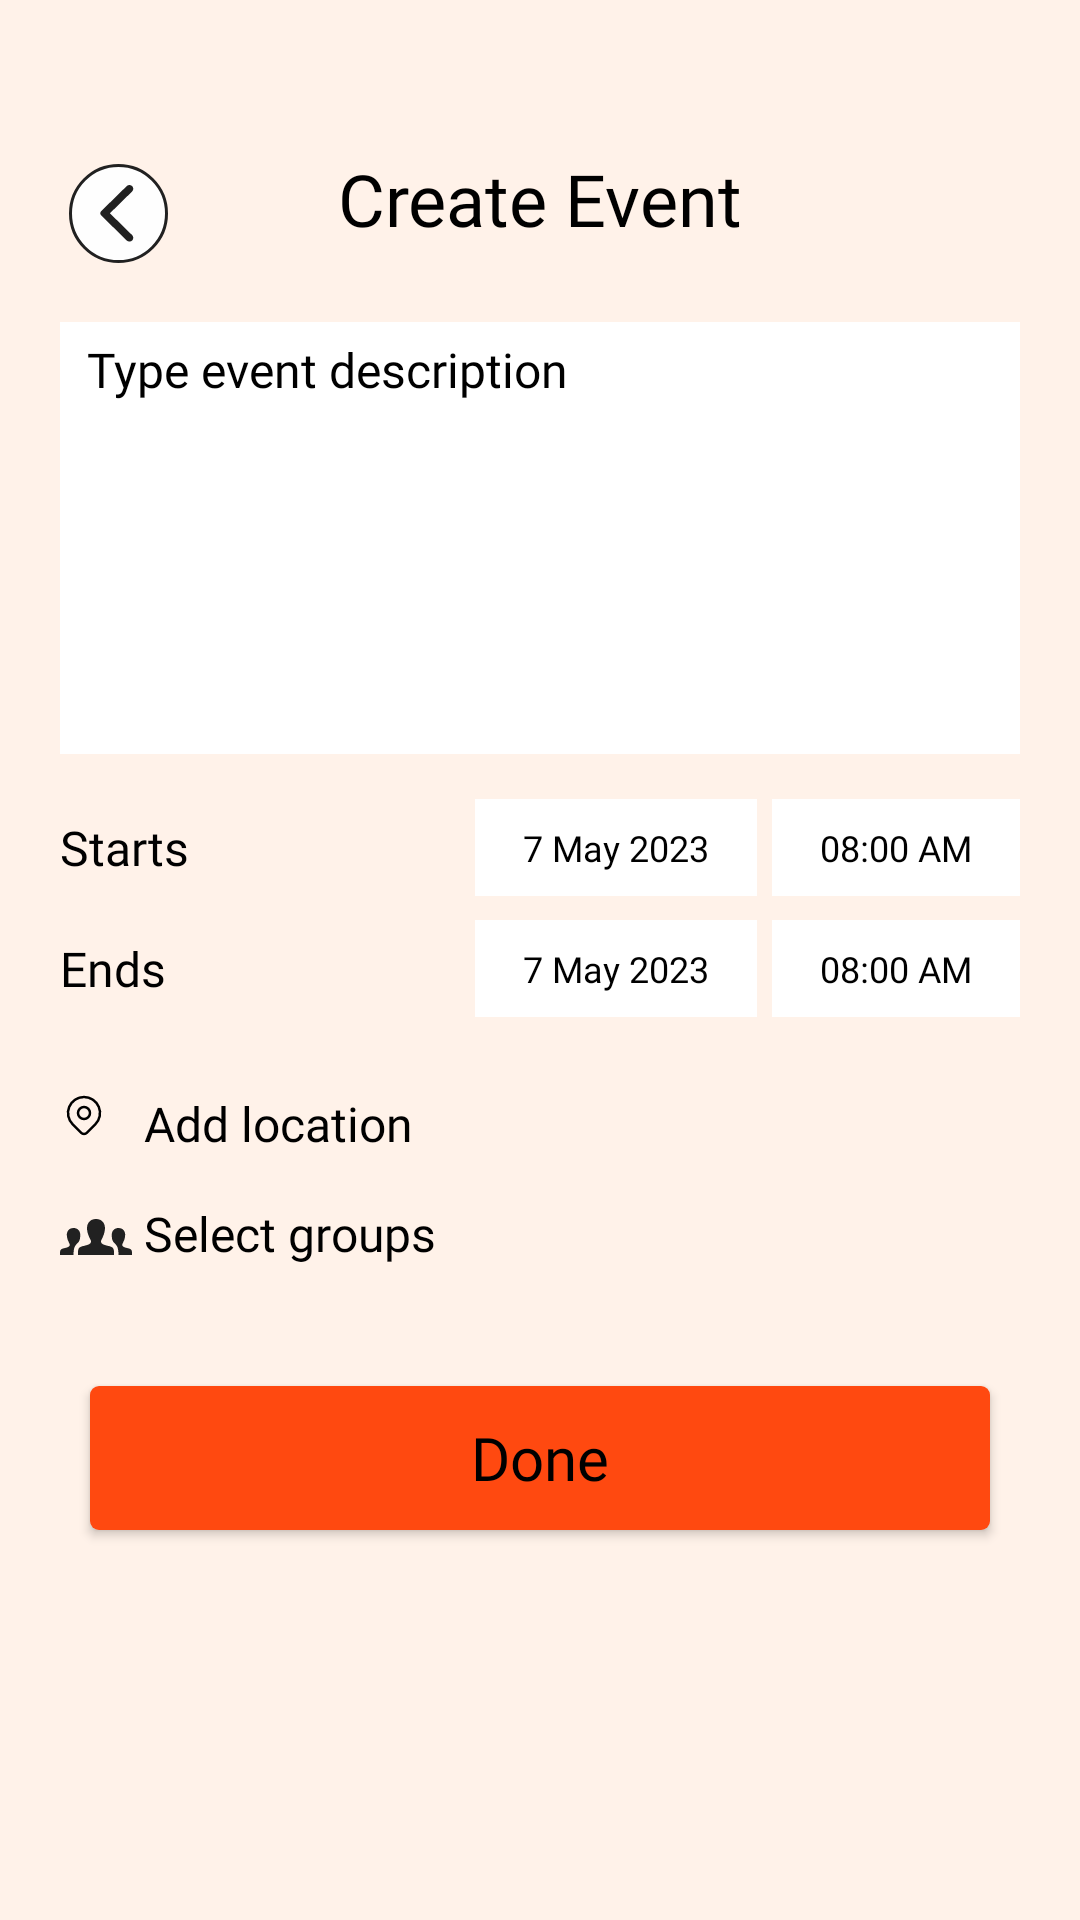

Screen size 1080w x 1920h. Icon name, then its center in pixels as point (x, y):
back: point (118, 213)
